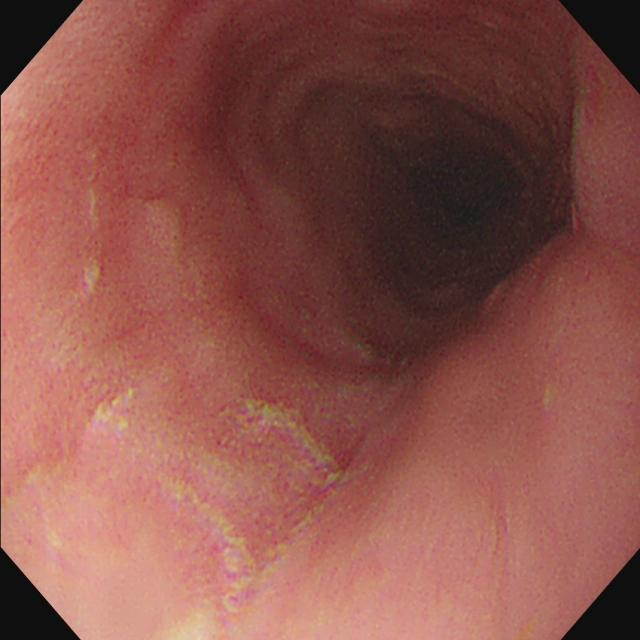E: (320, 75, 572, 330)
J: (238, 396, 342, 483), (83, 186, 104, 301)
